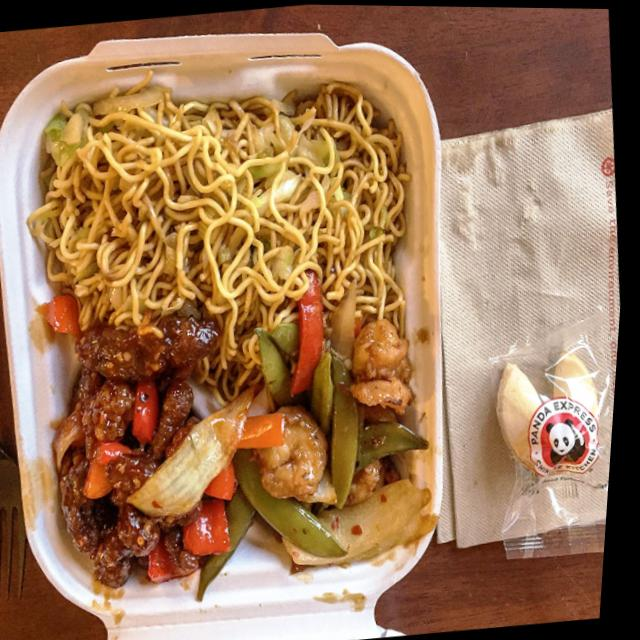Beijing Beef: (34, 308, 274, 588)
Chow Mein: (48, 69, 415, 336)
